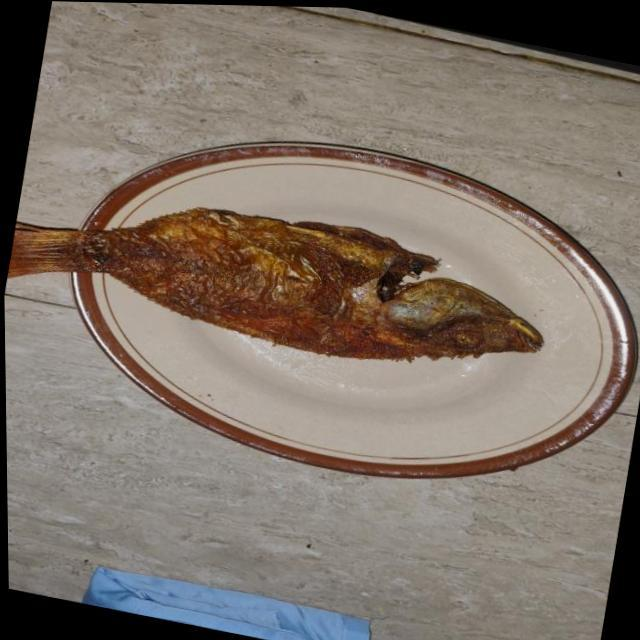ikan_mujair: (8, 208, 542, 360)
